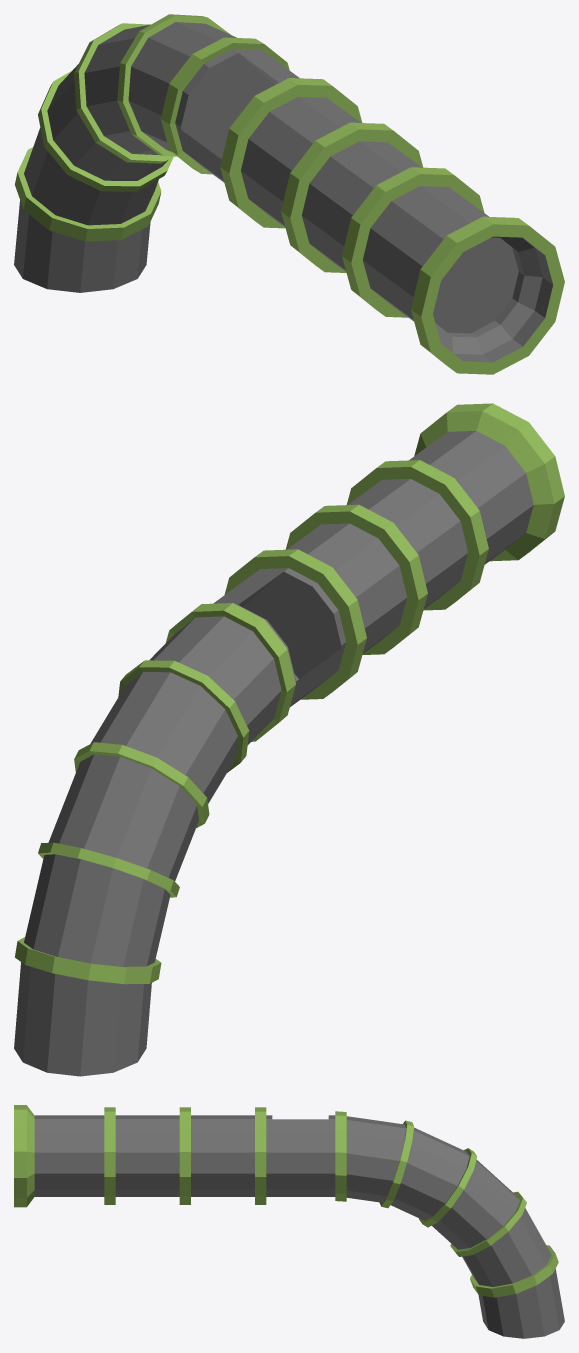
File: pipe.fbx
3 renders of one model, top to bottom at view 1: azimuth 30°, elevation 25°; view 2: azimuth 150°, elevation 25°; view 3: azimuth 270°, elevation 25°, orthographic. The views are drawn at different scales.
Parts seen in each view (by area): view 1: Pipe_01; view 2: Pipe_01; view 3: Pipe_01.
Part boxes in pixels (box(x1,y1,x2,y2)): Pipe_01: box(14, 14, 564, 374); Pipe_01: box(14, 403, 564, 1076); Pipe_01: box(14, 1105, 564, 1338).
Size of the model in its own units: 100 by 228 by 538.
